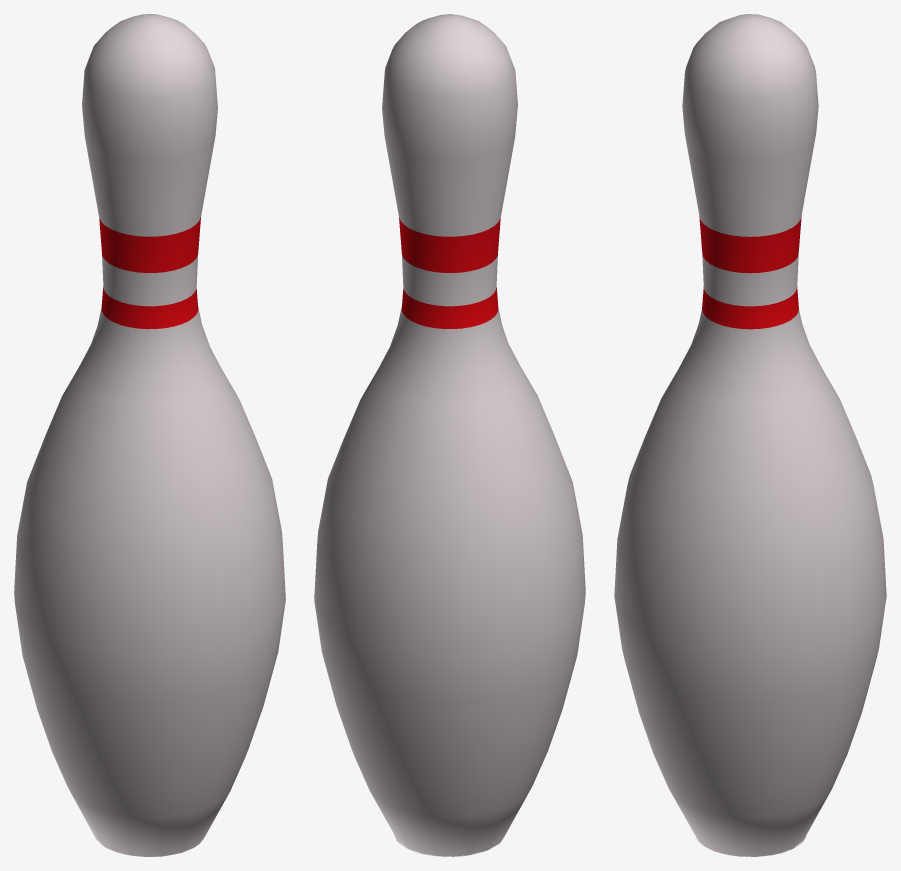
Rendered from Bowling Pin.fbx.
The picture shows the model from 3 angles, left to right: view 1: azimuth 30°, elevation 25°; view 2: azimuth 150°, elevation 25°; view 3: azimuth 270°, elevation 25°; orthographic projection.
Parts seen in each view (by area): view 1: BowlingPin; view 2: BowlingPin; view 3: BowlingPin.
Boxes of the visible parts, box(x1,y1,x2,y2) form: BowlingPin: box(14, 14, 285, 856); BowlingPin: box(314, 14, 585, 856); BowlingPin: box(614, 14, 886, 856).
Bounding box in the file's own units: 164 × 164 × 540.
